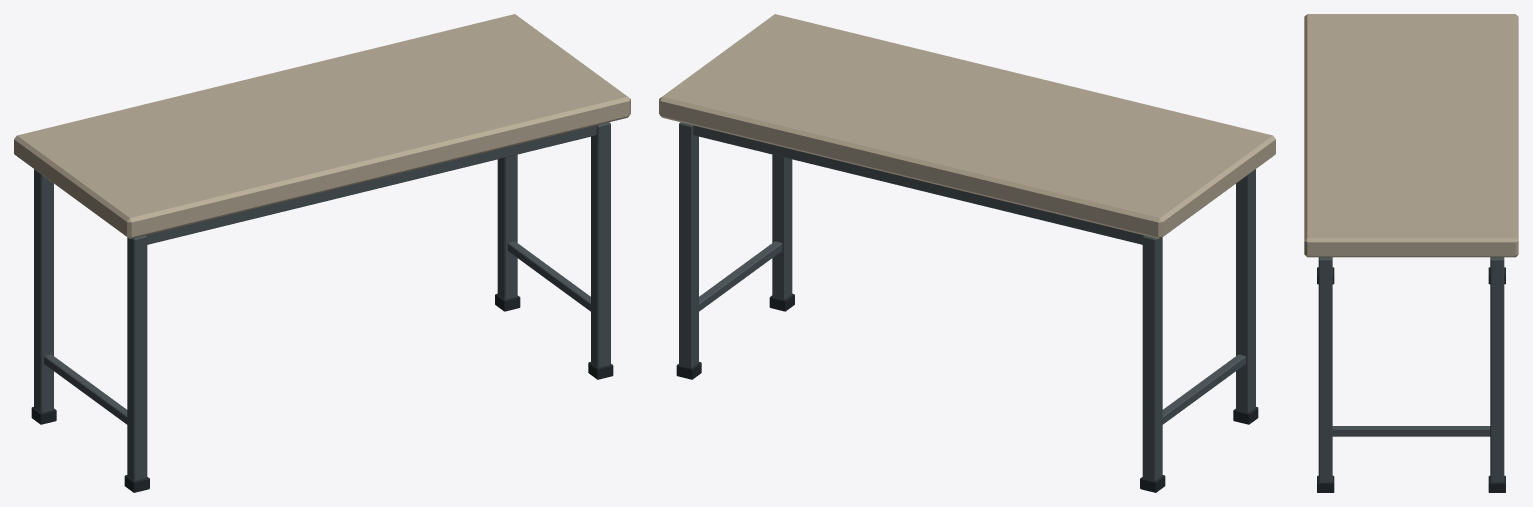
File: Table.fbx
The picture shows the model from 3 angles, left to right: view 1: azimuth 30°, elevation 25°; view 2: azimuth 150°, elevation 25°; view 3: azimuth 270°, elevation 25°; orthographic projection. The views are drawn at different scales.
Visible parts, largest first — view 1: MR_Table_Body; view 2: MR_Table_Body; view 3: MR_Table_Body.
Boxes of the visible parts, x1,y1,x2,y2 form: MR_Table_Body: [14, 14, 630, 492]; MR_Table_Body: [659, 14, 1275, 492]; MR_Table_Body: [1304, 14, 1518, 492].
Size of the model in its own units: 1.5 by 0.8 by 0.6.
